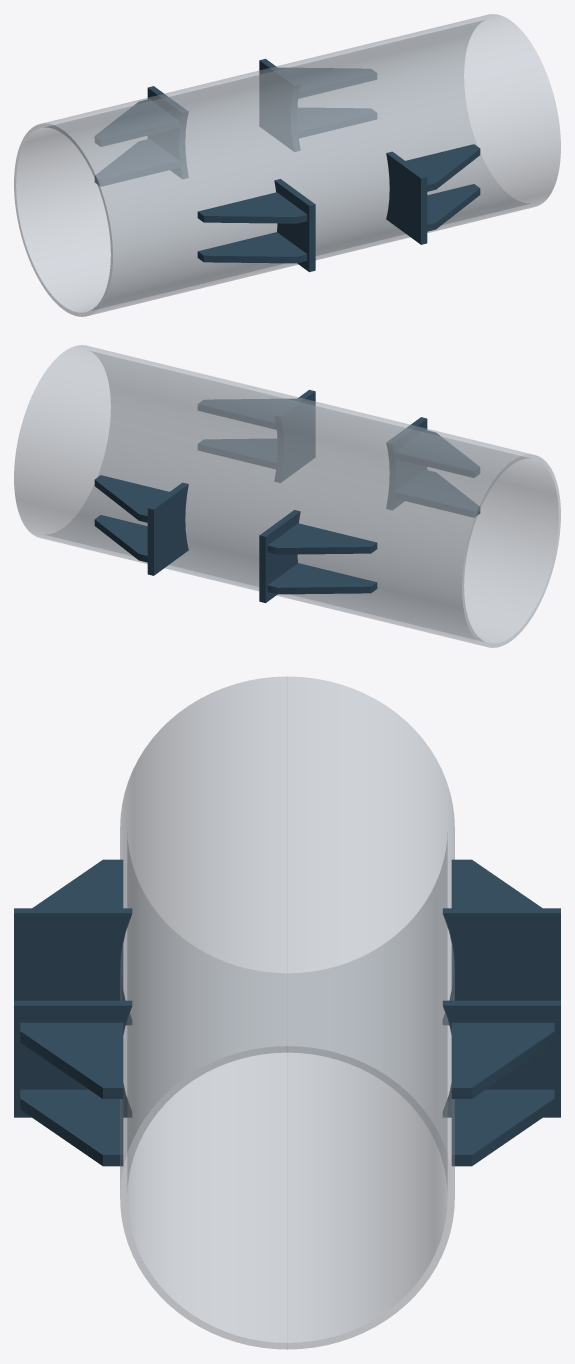
The model's file is TS-660.00.00-11-opora-dn325.glb.
3 renders of one model, top to bottom at view 1: azimuth 30°, elevation 25°; view 2: azimuth 150°, elevation 25°; view 3: azimuth 270°, elevation 25°, orthographic. The views are drawn at different scales.
Parts seen in each view (by area): view 1: truba, upor_1, upor_7, upor_5, upor_6, upor_12, upor_11, upor_4, upor_9, upor_2, upor_8, upor_10 (+1 smaller); view 2: truba, upor_7, upor_1, upor_11, upor_12, upor_5, upor_6, upor_10, upor_2, upor_9, upor_3, upor_4 (+1 smaller); view 3: truba, upor_4, upor_10, upor_2, upor_9, upor_3, upor_8, upor_1, upor_7, upor_5, upor_12.
Part boxes in pixels (left/top/right/bottom): truba: left=14, top=14, right=560, bottom=316; upor_1: left=386, top=151, right=427, bottom=244; upor_7: left=259, top=58, right=300, bottom=151; upor_5: left=197, top=192, right=307, bottom=223; upor_6: left=197, top=232, right=307, bottom=263; upor_12: left=95, top=99, right=179, bottom=146; upor_11: left=94, top=139, right=179, bottom=186; upor_4: left=274, top=179, right=315, bottom=272; upor_9: left=278, top=67, right=376, bottom=98; upor_2: left=406, top=144, right=480, bottom=191; upor_8: left=297, top=108, right=376, bottom=137; upor_10: left=147, top=86, right=188, bottom=178; truba: left=14, top=345, right=560, bottom=647; upor_7: left=147, top=482, right=188, bottom=575; upor_1: left=274, top=389, right=315, bottom=482; upor_11: left=267, top=563, right=377, bottom=594; upor_12: left=267, top=523, right=377, bottom=554; upor_5: left=395, top=430, right=479, bottom=477; upor_6: left=395, top=470, right=480, bottom=517; upor_10: left=259, top=510, right=300, bottom=603; upor_2: left=198, top=398, right=296, bottom=429; upor_9: left=94, top=475, right=168, bottom=522; upor_3: left=198, top=439, right=277, bottom=468; upor_4: left=386, top=417, right=427, bottom=509; truba: left=120, top=676, right=454, bottom=1349; upor_4: left=14, top=908, right=132, bottom=1025; upor_10: left=442, top=908, right=560, bottom=1025; upor_2: left=20, top=1022, right=123, bottom=1098; upor_9: left=451, top=1022, right=554, bottom=1098; upor_3: left=20, top=1089, right=123, bottom=1166; upor_8: left=451, top=1089, right=554, bottom=1166; upor_1: left=14, top=1000, right=132, bottom=1117; upor_7: left=442, top=1000, right=560, bottom=1117; upor_5: left=32, top=859, right=123, bottom=908; upor_12: left=451, top=859, right=542, bottom=908.
Bounding box in the file's own units: 849 × 325 × 531.
